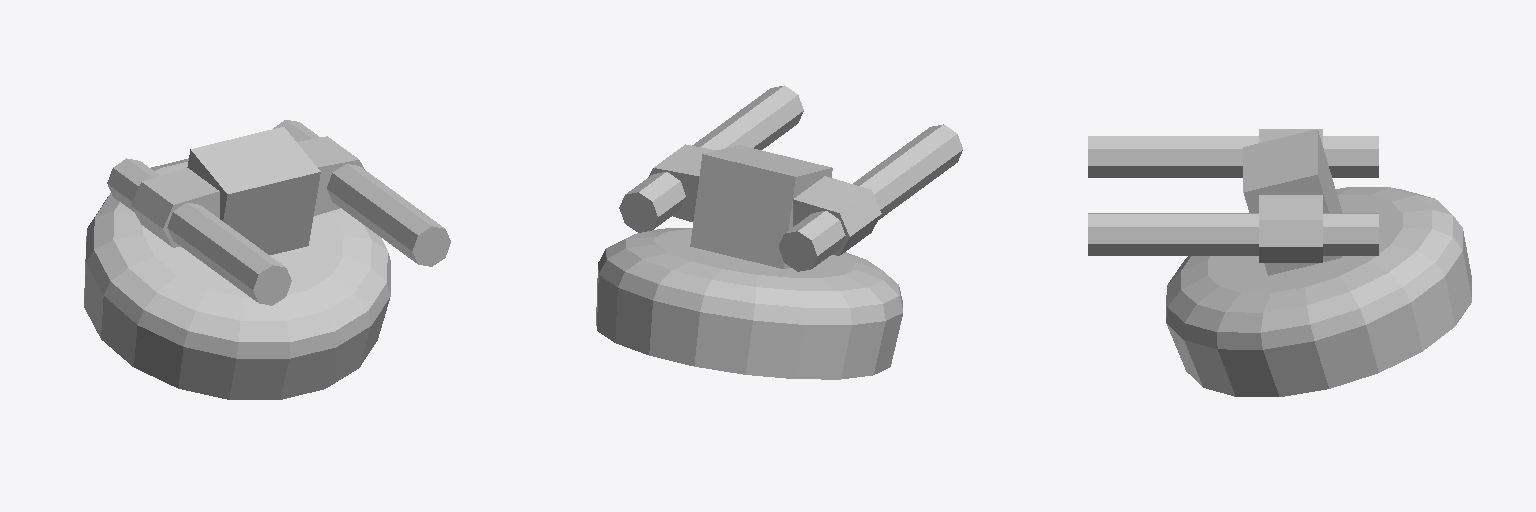
File: player_turret.obj
3 renders of one model, left to right at view 1: azimuth 30°, elevation 25°; view 2: azimuth 150°, elevation 25°; view 3: azimuth 270°, elevation 25°, orthographic.
Visible parts, largest first — view 1: Object001; view 2: Object001; view 3: Object001.
Part boxes in pixels (x1,y1,x2,y2): Object001: (84, 120, 450, 399); Object001: (596, 85, 962, 379); Object001: (1088, 129, 1471, 396).
Size of the model in its own units: 54.48 by 40.17 by 67.19.